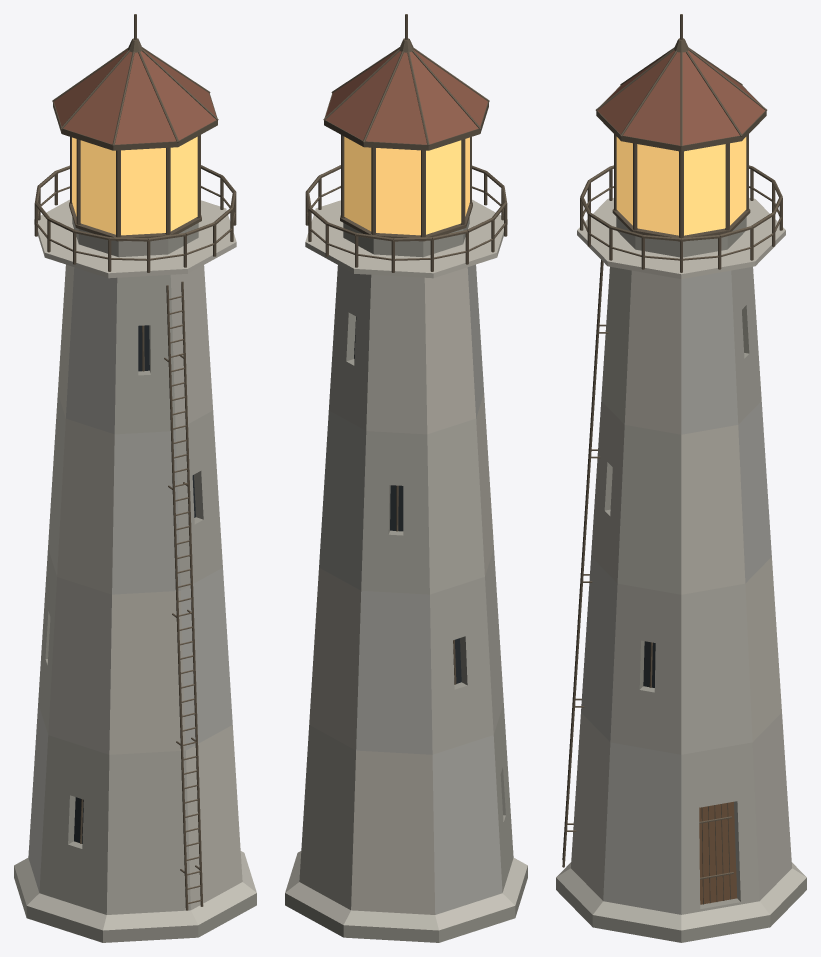
Rendered from lighthouse.glb.
3 views of the same model, side by side, from view 1: azimuth 30°, elevation 25°; view 2: azimuth 150°, elevation 25°; view 3: azimuth 270°, elevation 25° (orthographic).
Parts seen in each view (by area): view 1: Shaft course 0 facet 5, Shaft course 1 facet 5, Shaft course 2 facet 5, Stone opening course 0 facet 4, Eight pitched roof planes, Shaft course 1 facet 4, Shaft course 2 facet 4, Stone opening course 3 facet 5, Shaft course 0 facet 6, Shaft course 3 facet 4, Shaft course 1 facet 6, Stone opening course 2 facet 6 (+16 smaller); view 2: Shaft course 0 facet 2, Shaft course 1 facet 2, Shaft course 0 facet 3, Stone opening course 2 facet 2, Eight pitched roof planes, Shaft course 3 facet 2, Stone opening course 1 facet 3, Shaft course 2 facet 3, Shaft course 0 facet 1, Shaft course 1 facet 1, Shaft course 3 facet 3, Shaft course 2 facet 1 (+15 smaller); view 3: Shaft course 0 facet 7, Shaft course 1 facet 0, Stone opening course 1 facet 7, Shaft course 2 facet 0, Shaft course 2 facet 7, Eight pitched roof planes, Shaft course 3 facet 0, Shaft course 3 facet 7, Stone opening course 0 facet 0, Gallery stone floor, Shaft course 0 facet 1, Shaft course 0 facet 6 (+19 smaller).
Boxes of the visible parts, x1,y1,x2,y2 form: Shaft course 0 facet 5: (106,750,190,914); Shaft course 1 facet 5: (109,591,185,754); Shaft course 2 facet 5: (112,431,180,594); Stone opening course 0 facet 4: (39,735,109,914); Eight pitched roof planes: (54,50,216,144); Shaft course 1 facet 4: (48,577,111,754); Shaft course 2 facet 4: (57,418,114,594); Stone opening course 3 facet 5: (114,274,175,434); Shaft course 0 facet 6: (186,725,242,909); Shaft course 3 facet 4: (66,267,117,434); Shaft course 1 facet 6: (180,568,232,750); Stone opening course 2 facet 6: (175,410,222,590); Shaft course 0 facet 2: (351,750,435,914); Shaft course 1 facet 2: (356,591,432,754); Shaft course 0 facet 3: (432,735,502,914); Stone opening course 2 facet 2: (361,431,429,594); Eight pitched roof planes: (325,50,487,144); Shaft course 3 facet 2: (366,274,427,434); Stone opening course 1 facet 3: (430,577,493,754); Shaft course 2 facet 3: (427,418,484,594); Shaft course 0 facet 1: (299,725,355,909); Shaft course 1 facet 1: (309,568,361,750); Shaft course 3 facet 3: (424,267,475,434); Shaft course 2 facet 1: (319,410,366,590); Shaft course 0 facet 7: (603,742,681,914); Shaft course 1 facet 0: (681,583,752,754); Stone opening course 1 facet 7: (610,583,681,754); Shaft course 2 facet 0: (681,425,745,594); Shaft course 2 facet 7: (617,425,681,594); Eight pitched roof planes: (597,50,765,145); Shaft course 3 facet 0: (681,270,738,434); Shaft course 3 facet 7: (624,270,681,434); Stone opening course 0 facet 0: (681,742,759,914); Gallery stone floor: (577,198,785,279); Shaft course 0 facet 1: (752,713,791,900); Shaft course 0 facet 6: (571,713,610,900).
Size of the model in its own units: 7.3 by 28.1 by 7.3.
